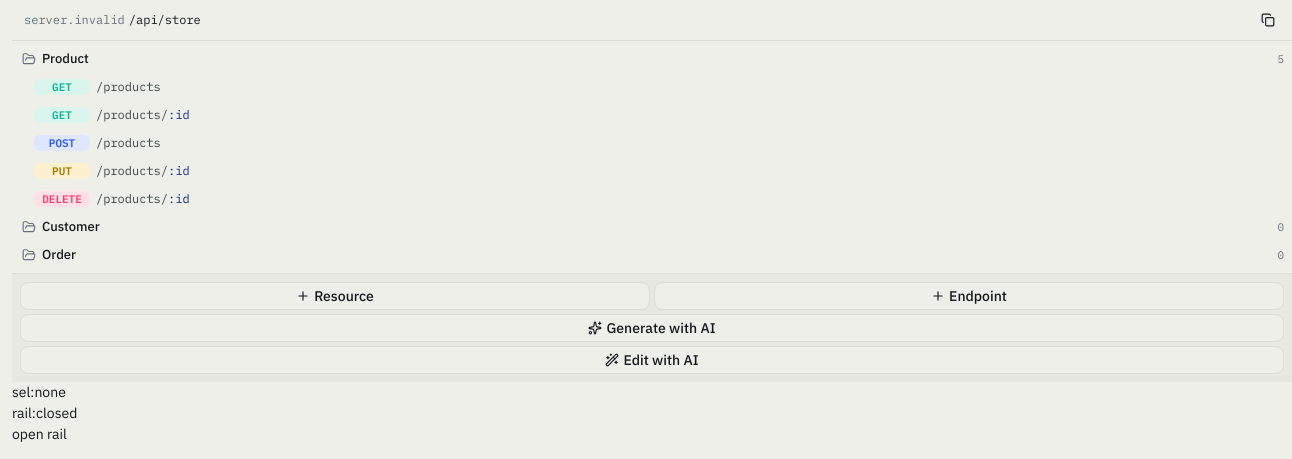
Scenario: right-click menus › offers the resource menu, disabling Generate CRUD endpoints once every route exists
The width and height of the screenshot is (1292, 459).
Right-click the list item "Product" at (65, 59), box 12,45 -> 1291,73
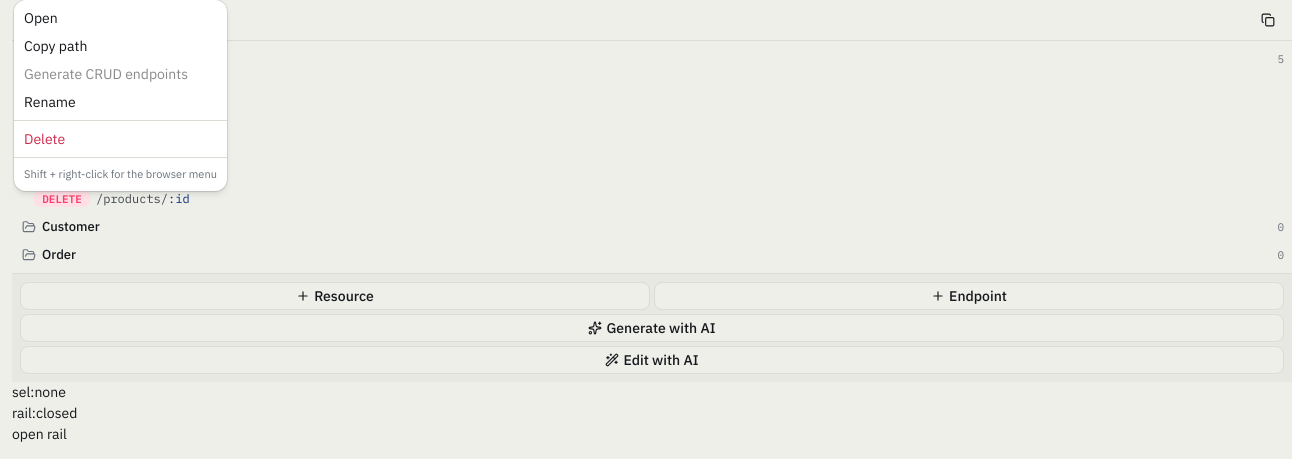
expect the menu item "Open" is shown: met, box 24,9 -> 58,27
expect the menu item "Copy path" is shown: met, box 24,37 -> 87,55
expect the menu item "Rename" is shown: met, box 24,93 -> 76,111
Press Escape
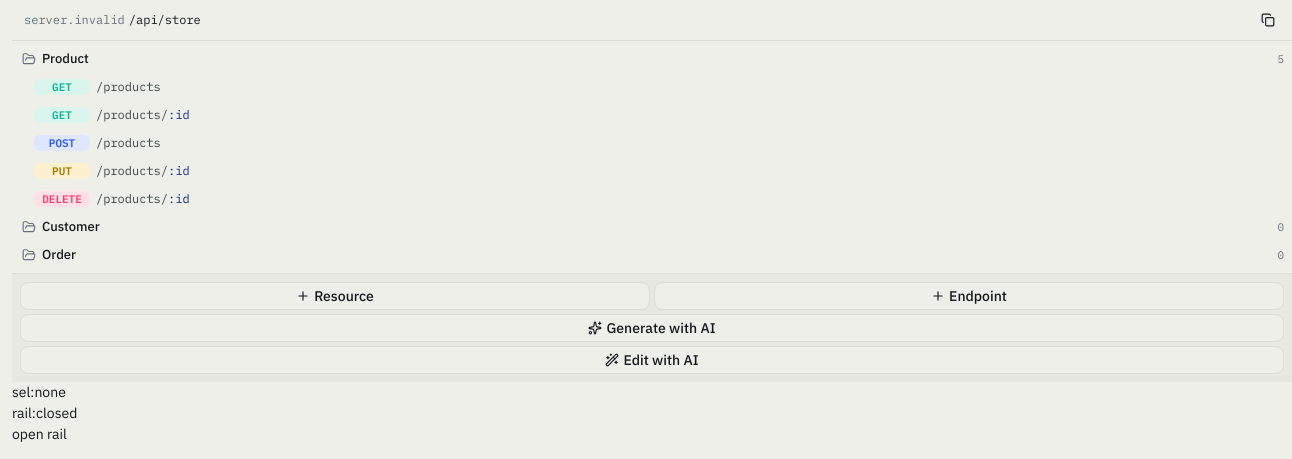
Right-click the list item "Customer" at (71, 227), box 12,213 -> 1291,241
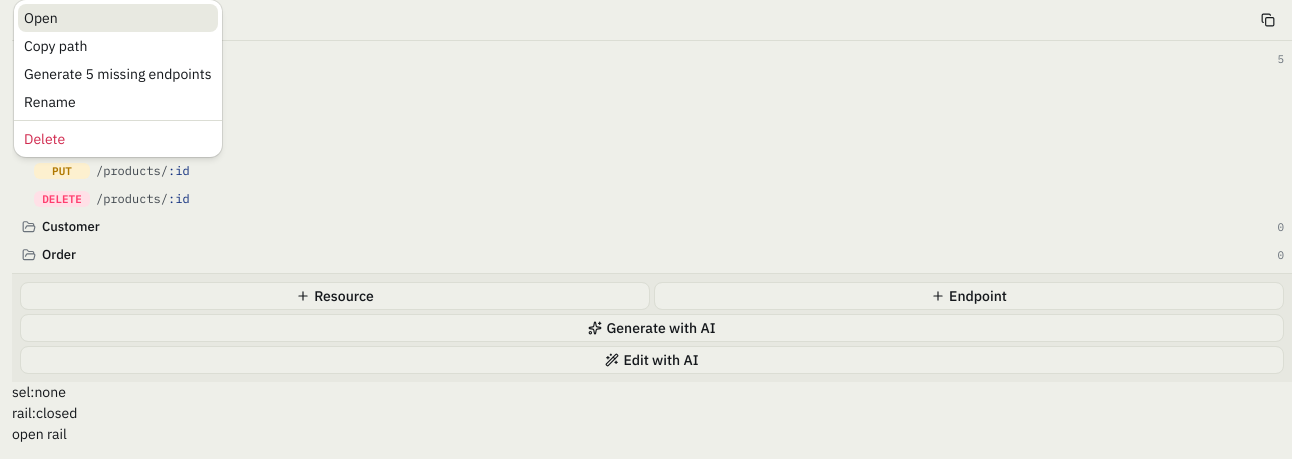
expect the menu item "Generate 5 missing endpoints" is shown: met, box 18,60 -> 218,88
